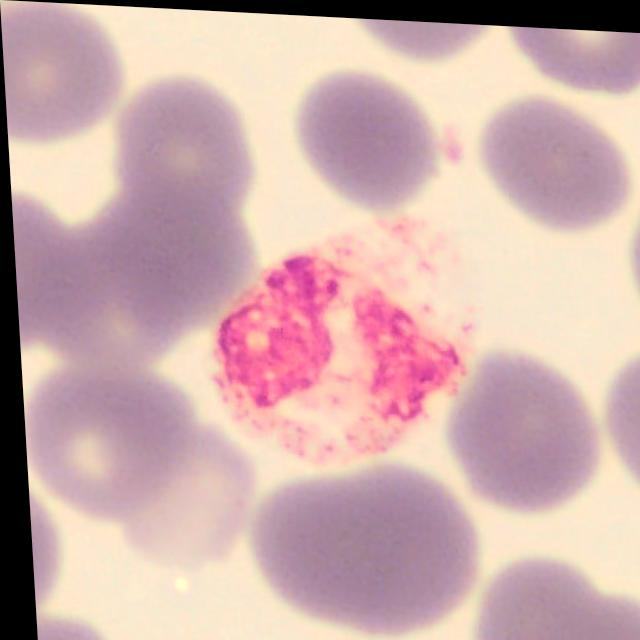Restos celulares: (182, 212, 477, 476)
